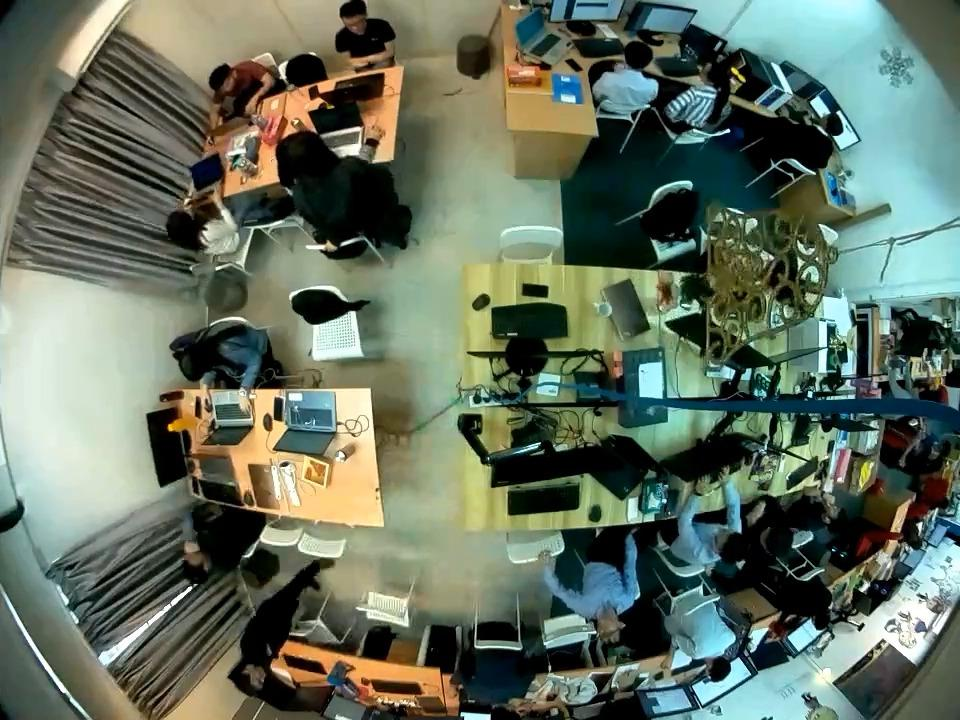name-tag: (266, 644, 273, 658)
